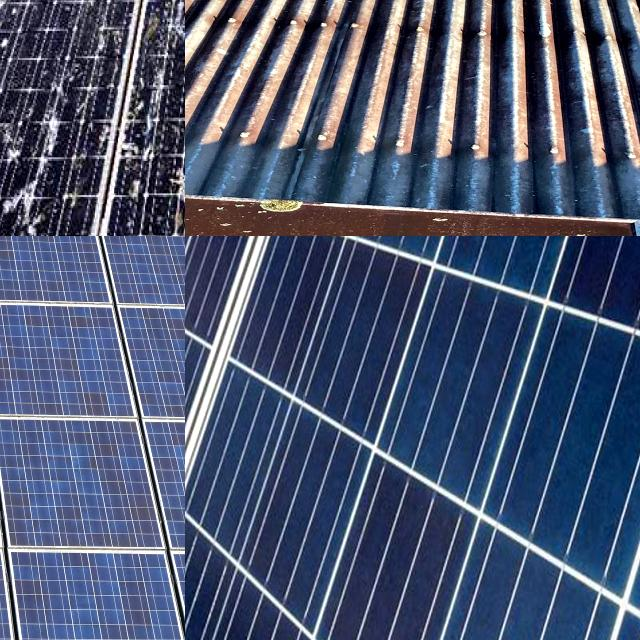bird: (0, 177, 54, 226), (31, 0, 79, 24)
crack: (185, 236, 640, 640), (0, 414, 185, 559), (0, 300, 154, 438), (0, 547, 185, 640), (0, 297, 90, 431), (0, 413, 87, 545), (0, 541, 109, 640), (0, 410, 70, 564), (112, 306, 185, 422), (0, 544, 72, 640)
